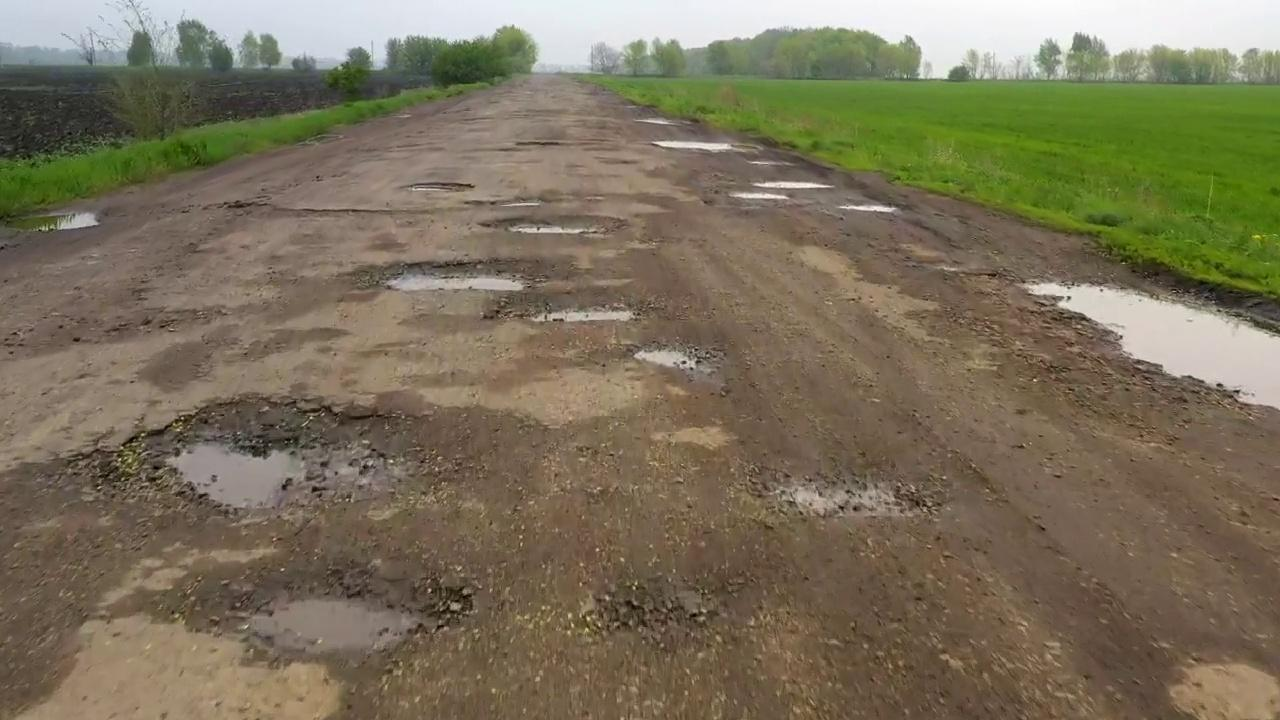bache: (27, 396, 440, 519), (1025, 283, 1279, 408), (214, 559, 473, 657), (757, 471, 930, 516), (353, 258, 567, 292), (486, 286, 655, 322), (634, 346, 723, 379), (482, 215, 625, 235)
